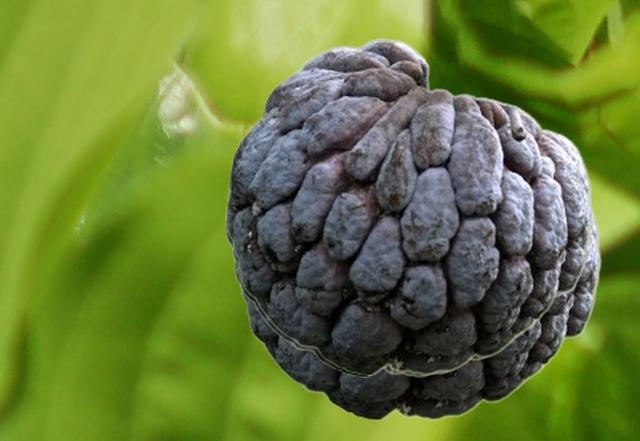atis: (226, 37, 592, 374), (225, 106, 566, 376), (234, 200, 600, 419)
